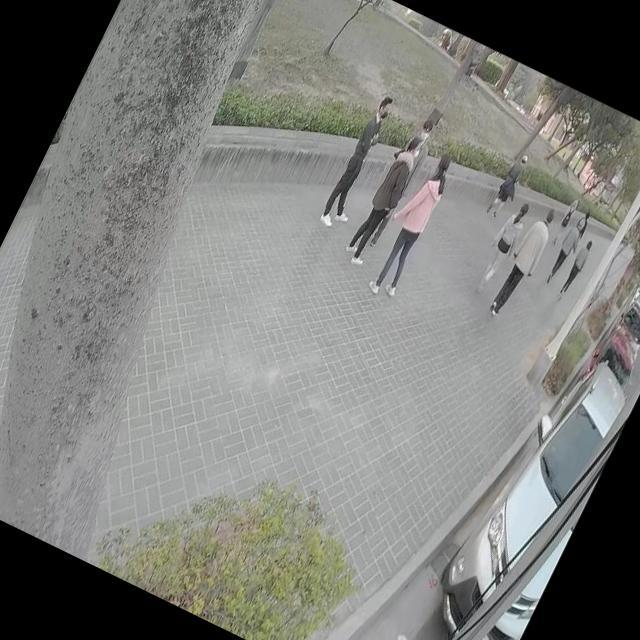person: (368, 148, 458, 298), (318, 90, 402, 228), (344, 128, 426, 264), (482, 201, 561, 324), (378, 116, 442, 224), (471, 196, 532, 292), (540, 210, 590, 286), (485, 149, 531, 220), (559, 240, 593, 296), (548, 198, 578, 247)
